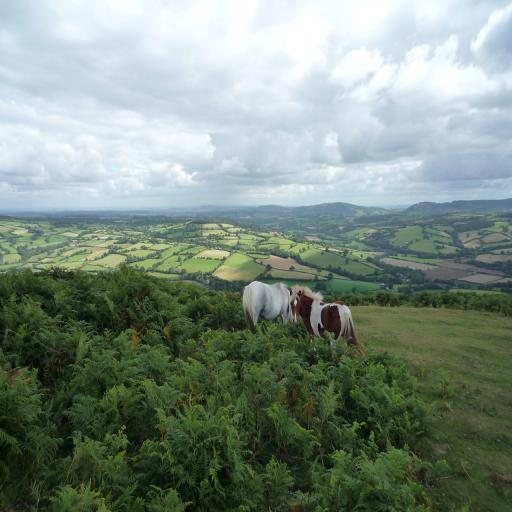horse: (287, 284, 363, 358), (242, 282, 292, 336)
